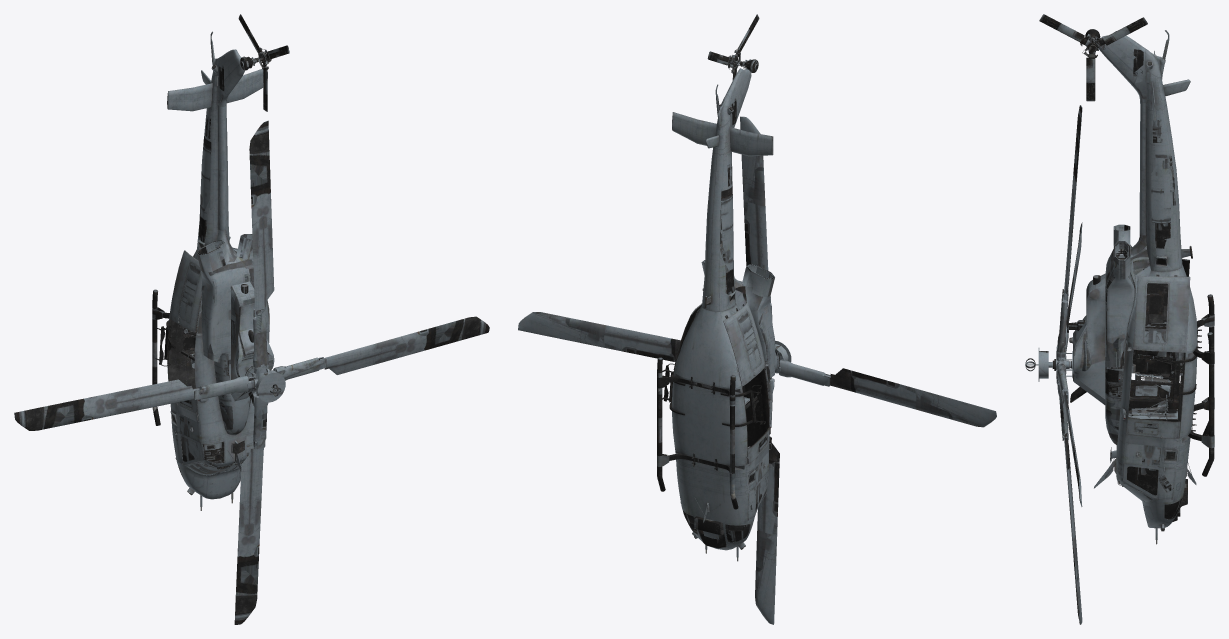
The model's file is uh1y-venom.glb.
The picture shows the model from 3 angles, left to right: view 1: azimuth 30°, elevation 25°; view 2: azimuth 150°, elevation 25°; view 3: azimuth 270°, elevation 25°; orthographic projection. The views are drawn at different scales.
Visible parts, largest first — view 1: mesh (×4); view 2: mesh (×4); view 3: mesh (×5).
Part boxes in pixels (<box>): mesh (×4): <box>14,14,489,624</box>; mesh (×4): <box>518,14,996,624</box>; mesh (×5): <box>1025,14,1214,624</box>.
Size of the model in its own units: 77.85 by 91.67 by 25.12.
Materials: 1 (1 with a texture image).
